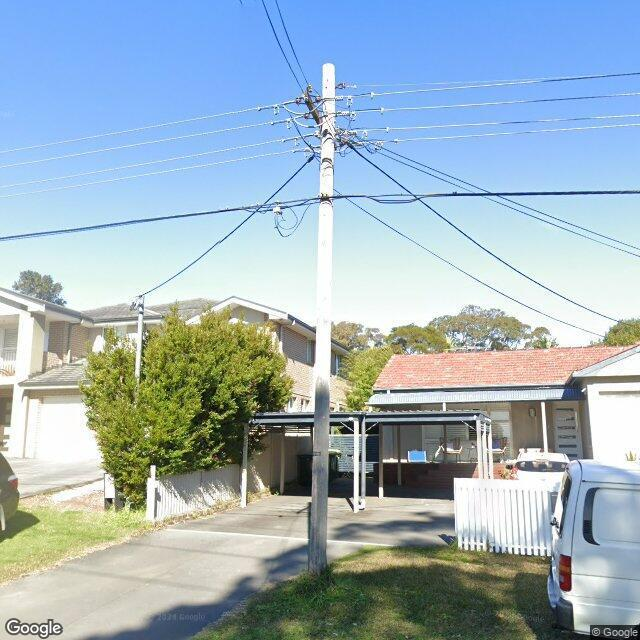crossarm: (303, 96, 322, 130)
steel-pole: (134, 292, 144, 384)
timber-pole: (308, 63, 336, 576)
